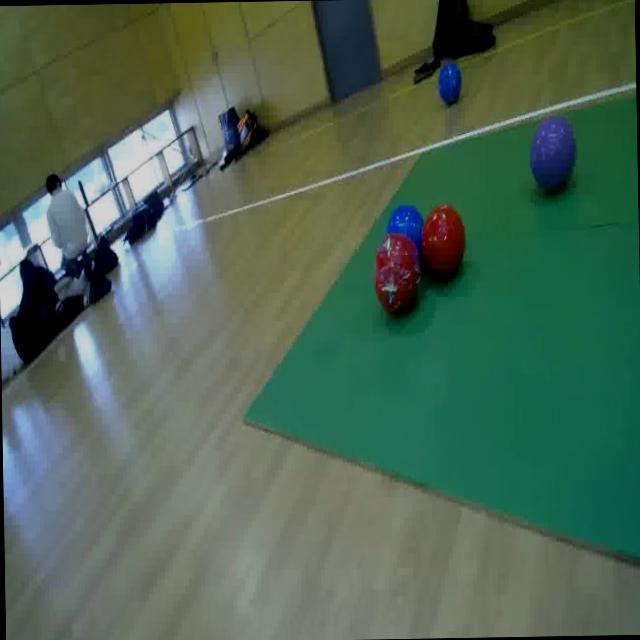blue_ball: (387, 205, 426, 275), (435, 60, 463, 108)
purple_ball: (527, 109, 579, 196)
red_ball: (372, 230, 422, 318), (419, 200, 468, 287)
